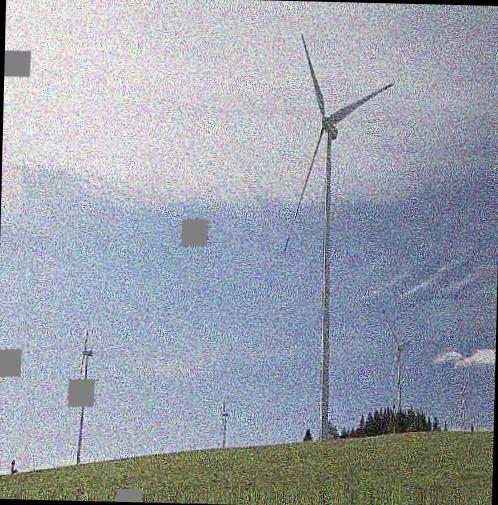wind turbine: (283, 33, 397, 426)
